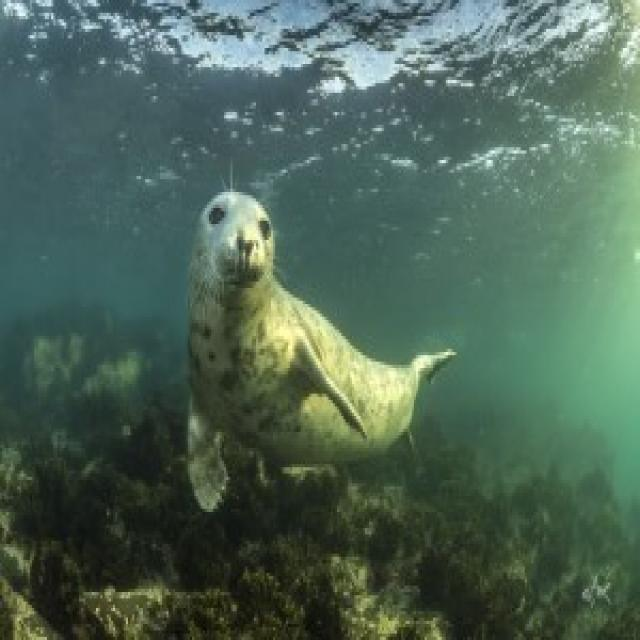Seal: (170, 187, 468, 538)
